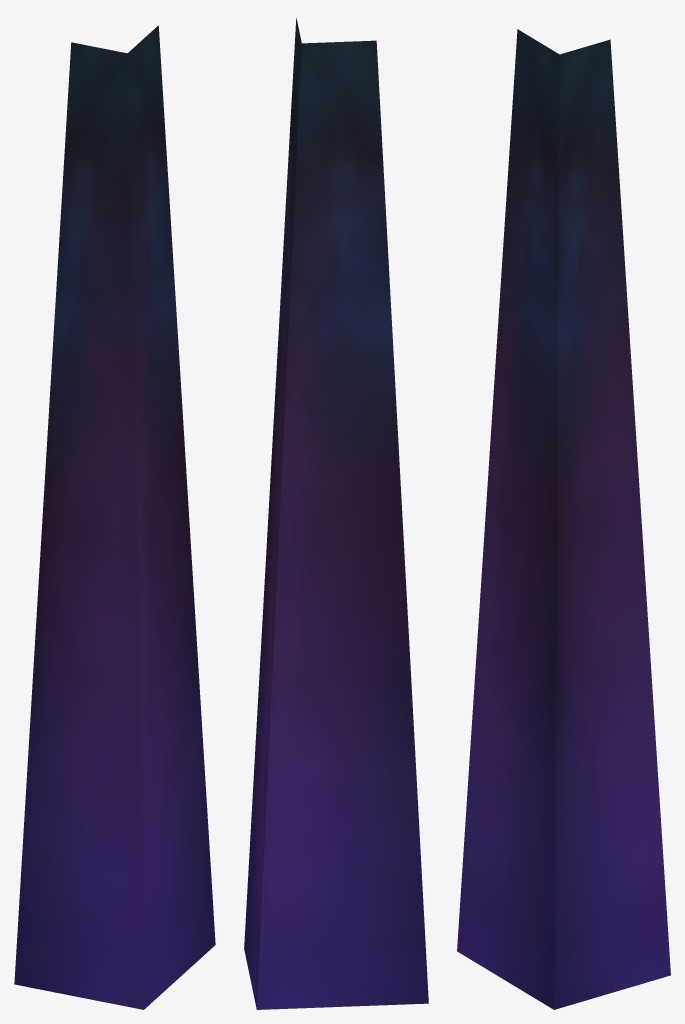
The model's file is treetrunk03.glb.
The picture shows the model from 3 angles, left to right: view 1: azimuth 30°, elevation 25°; view 2: azimuth 150°, elevation 25°; view 3: azimuth 270°, elevation 25°; orthographic projection.
Visible parts, largest first — view 1: treetrunk03; view 2: treetrunk03; view 3: treetrunk03.
Part boxes in pixels (left/top/right/bottom): treetrunk03: left=14, top=25, right=215, bottom=1009; treetrunk03: left=244, top=18, right=428, bottom=1009; treetrunk03: left=457, top=29, right=670, bottom=1009.
Size of the model in its own units: 229 by 1065 by 222.
Materials: 1 (1 with a texture image).
